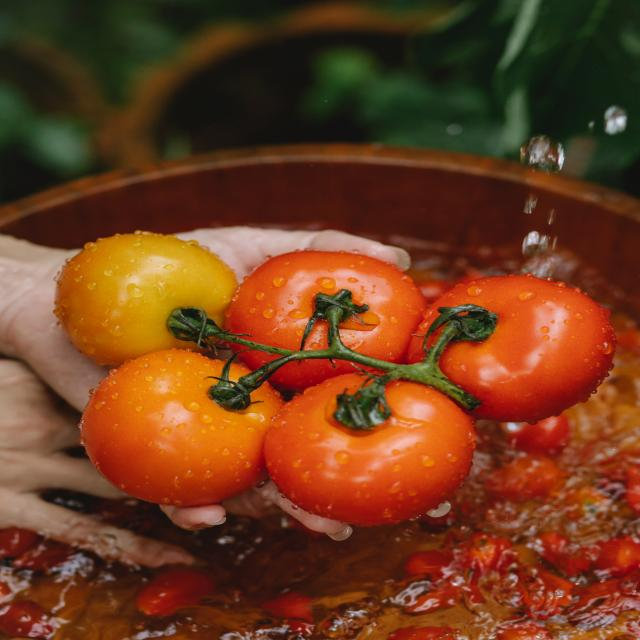Tomato: (66, 349, 288, 506), (285, 361, 478, 536), (245, 246, 433, 375)
